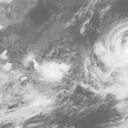cyclone: (35, 58, 68, 84)
